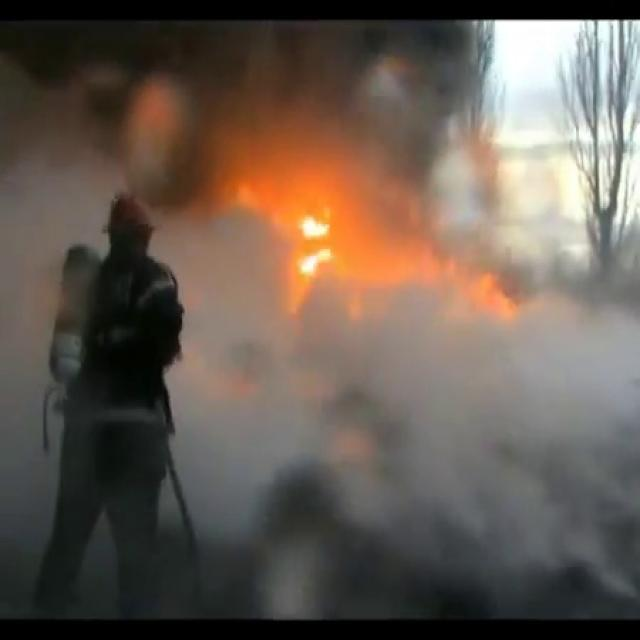Fire: (286, 194, 343, 288)
Smoke: (124, 18, 630, 576)
